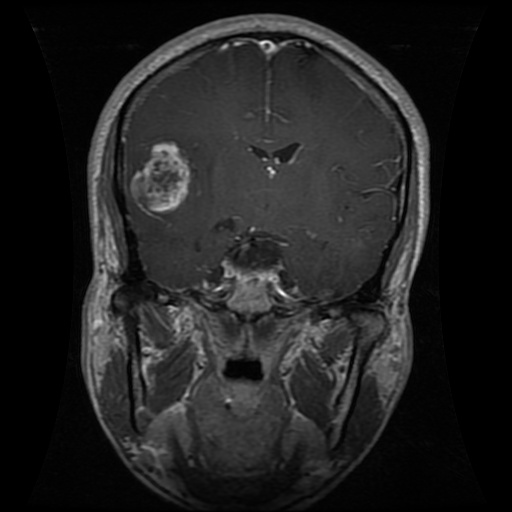glioma: (126, 139, 193, 216)
